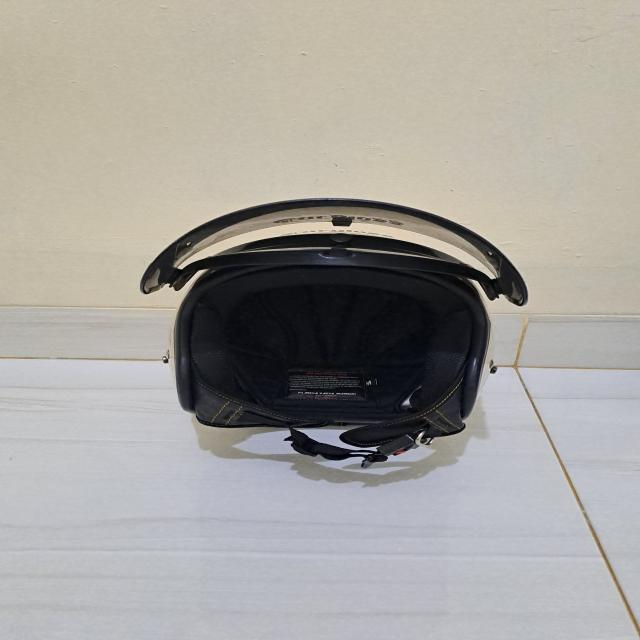Helm: (132, 190, 538, 467)
